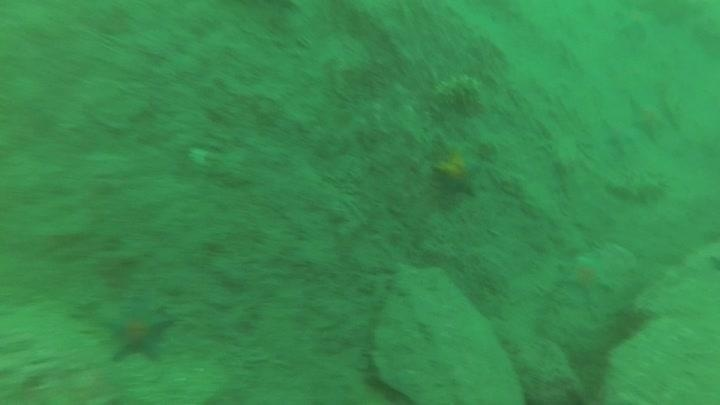holothurian: (604, 169, 671, 207), (428, 71, 486, 111)
starfish: (99, 297, 177, 365), (428, 139, 486, 199), (556, 252, 615, 305), (623, 90, 675, 143), (613, 4, 658, 44)
